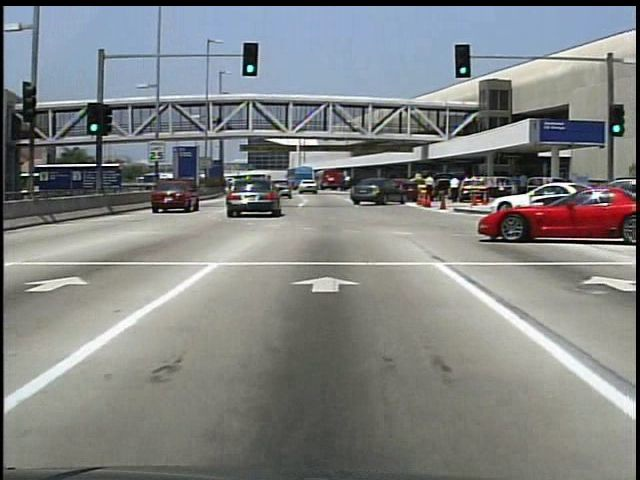person: (422, 172, 438, 207), (495, 177, 510, 211), (450, 174, 465, 203), (217, 116, 226, 133)
